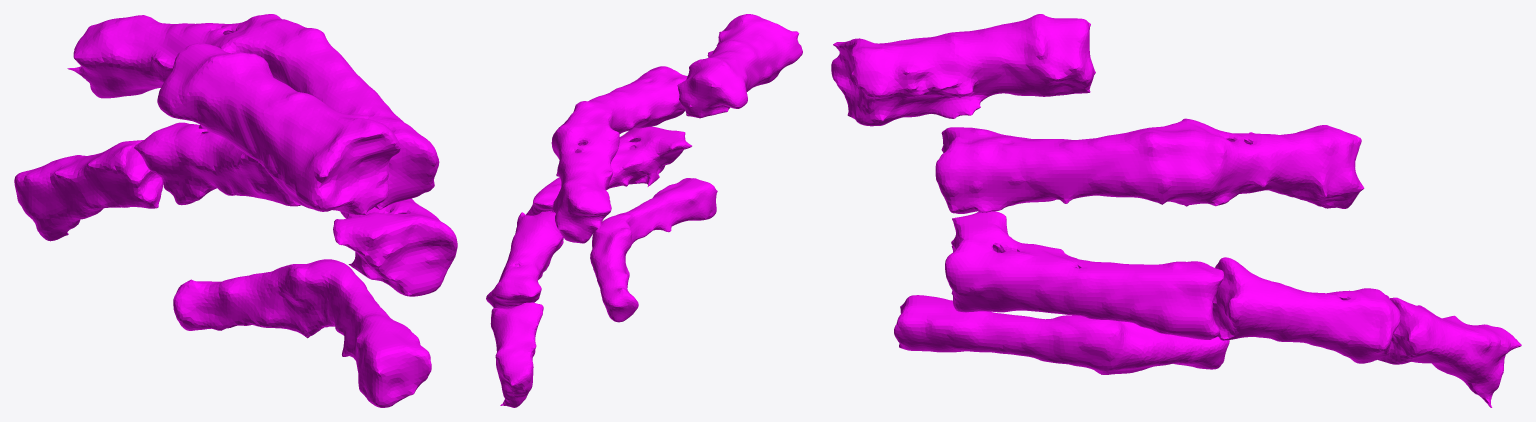
Rendered from pedphalR.glb.
3 views of the same model, side by side, from view 1: azimuth 30°, elevation 25°; view 2: azimuth 150°, elevation 25°; view 3: azimuth 270°, elevation 25° (orthographic). The views are drawn at different scales.
Parts seen in each view (by area): view 1: pedphalR; view 2: pedphalR; view 3: pedphalR.
Part boxes in pixels (x1,y1,x2,y2): pedphalR: (14, 14, 457, 407); pedphalR: (486, 14, 802, 407); pedphalR: (831, 14, 1521, 407).
Bounding box in the file's own units: 0.00489 × 0.00676 × 0.0121.
